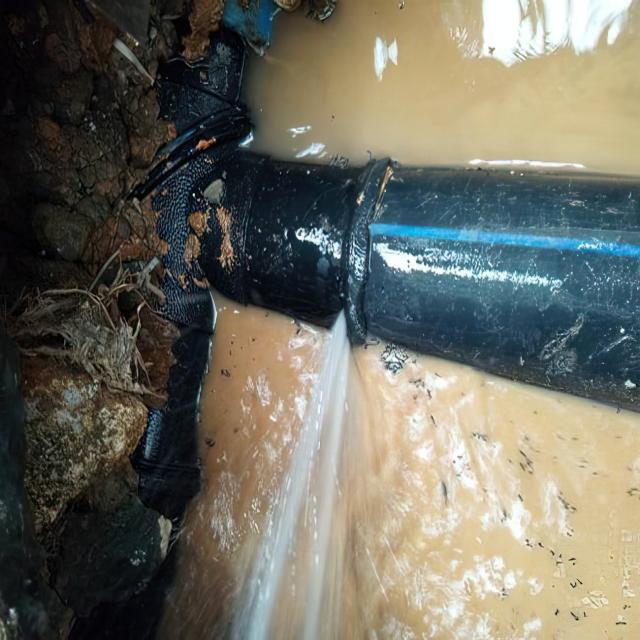leak: (230, 312, 351, 639)
